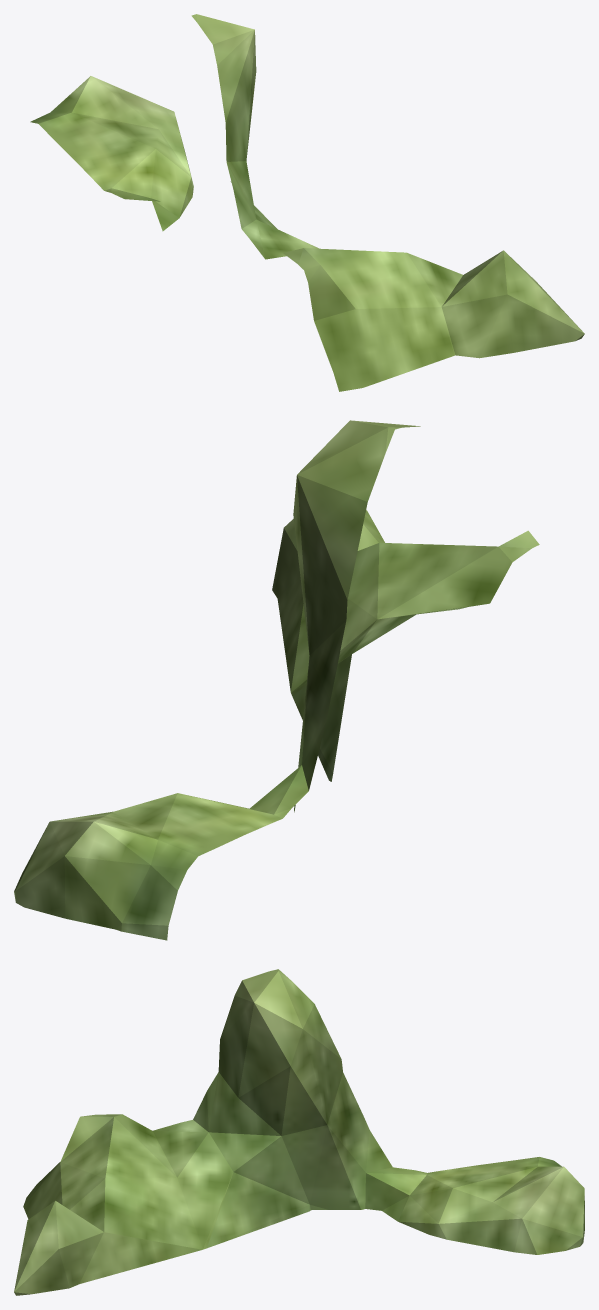
3 renders of one model, top to bottom at view 1: azimuth 30°, elevation 25°; view 2: azimuth 150°, elevation 25°; view 3: azimuth 270°, elevation 25°, orthographic. The views are drawn at different scales.
Size of the model in its own units: 0.8318 by 0.8946 by 2.02.
1 material, 1 textured.
